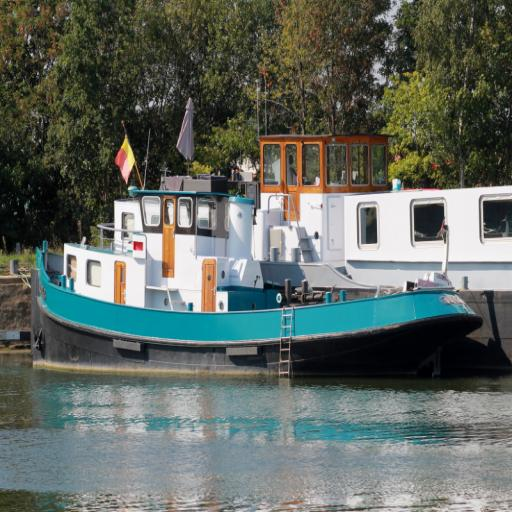tugboat: (29, 183, 489, 391)
